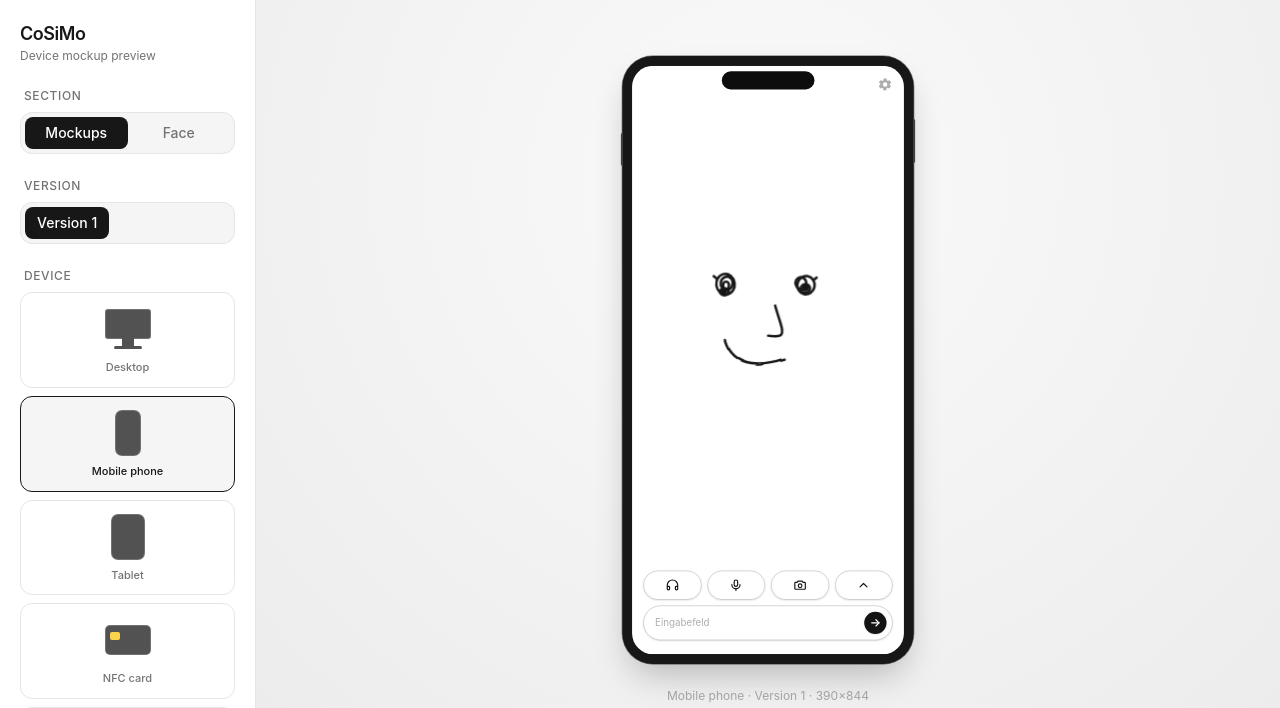
Test: CoSiMo mockup smoke › opens the Farben and Aussehen pickers from the menu
Click the button named "Mehr": (864, 585) [835,571,893,600]
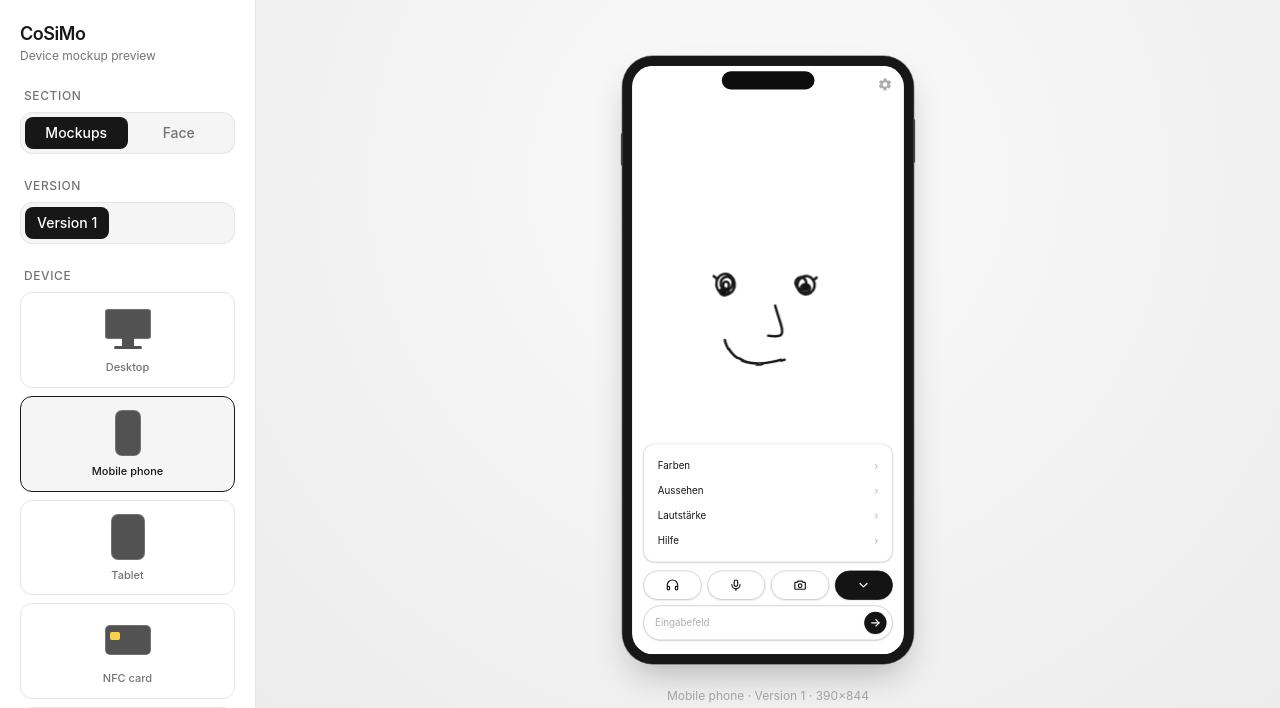
// Farben → scheme options
Click the text "Farben": (674, 465) [658,458,690,472]
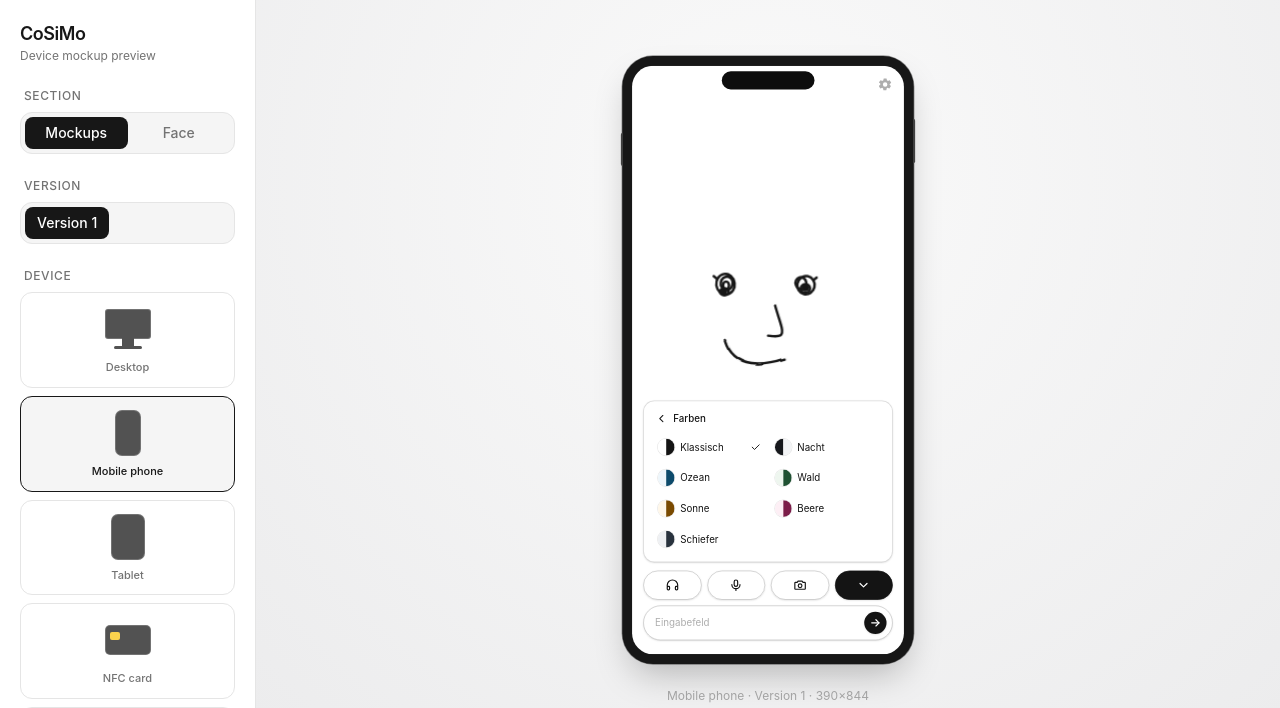
Expected: the text "Ozean" is shown, [680,472,710,484]
Click the button named "Zurück": (661, 419) [652,410,670,428]
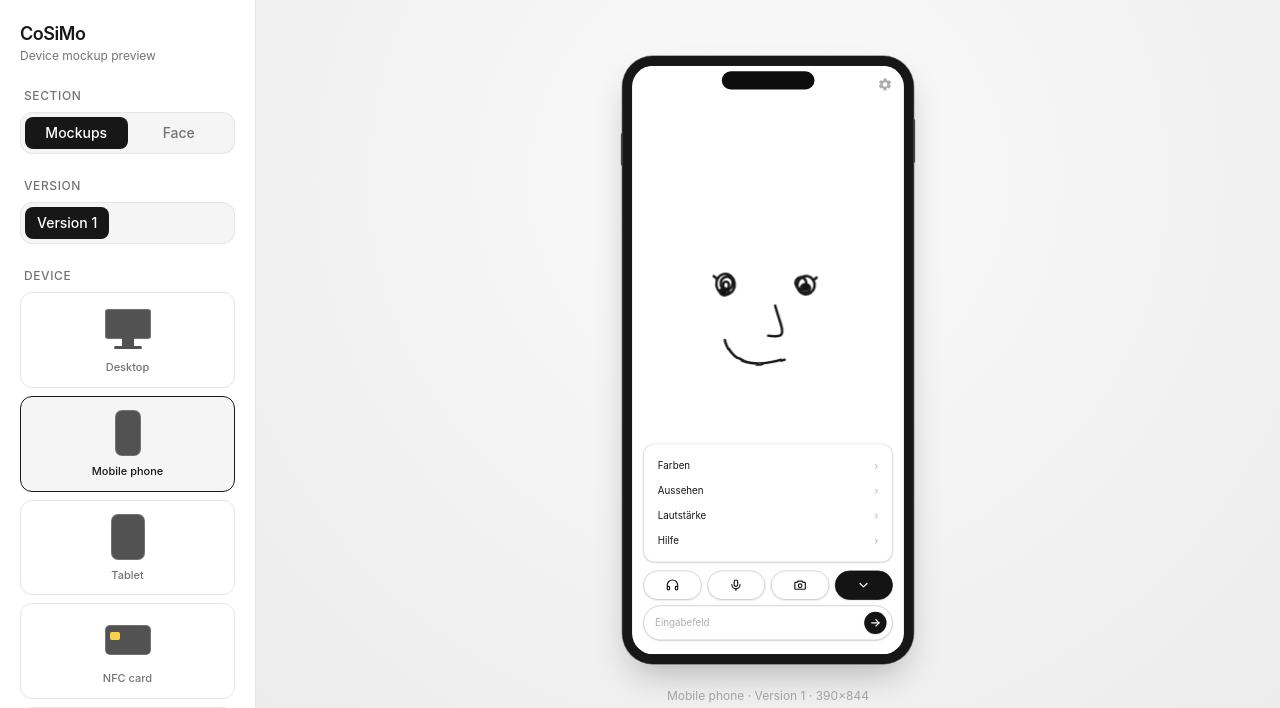
// Aussehen → character options
Click the text "Aussehen": (681, 490) [658,483,704,497]
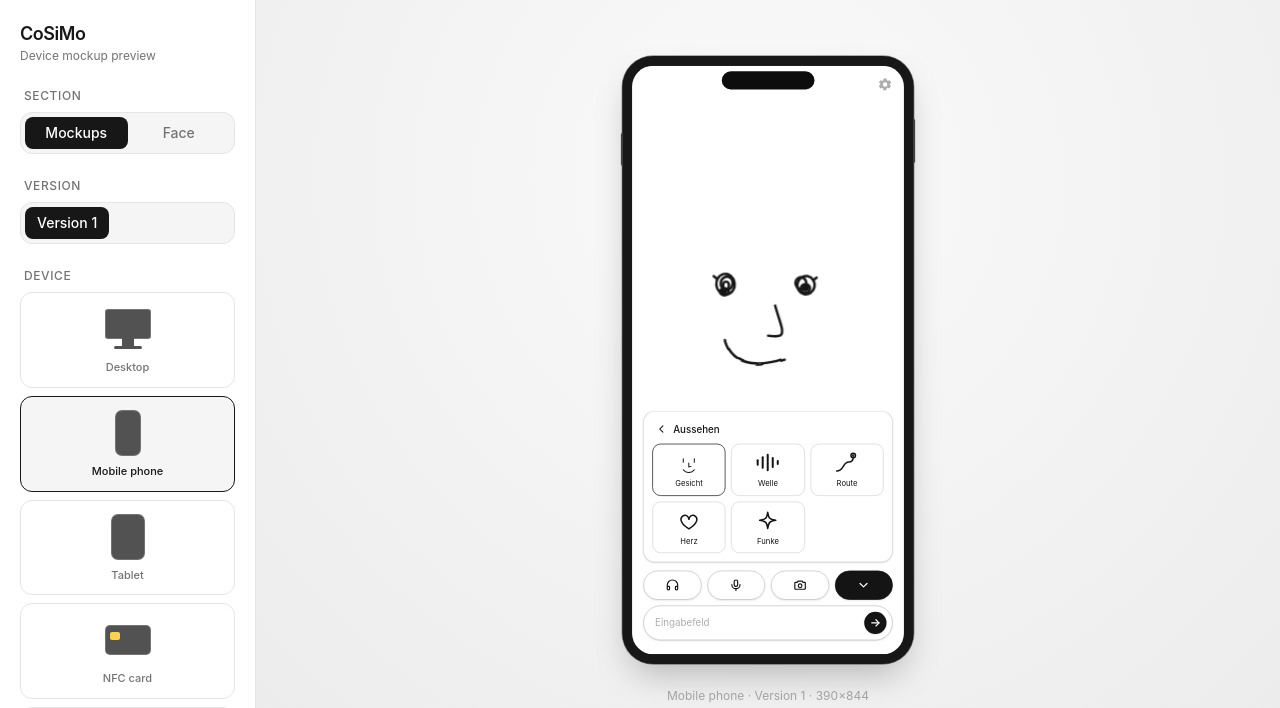
Expected: the button "Welle" is shown, [731,444,805,496]
